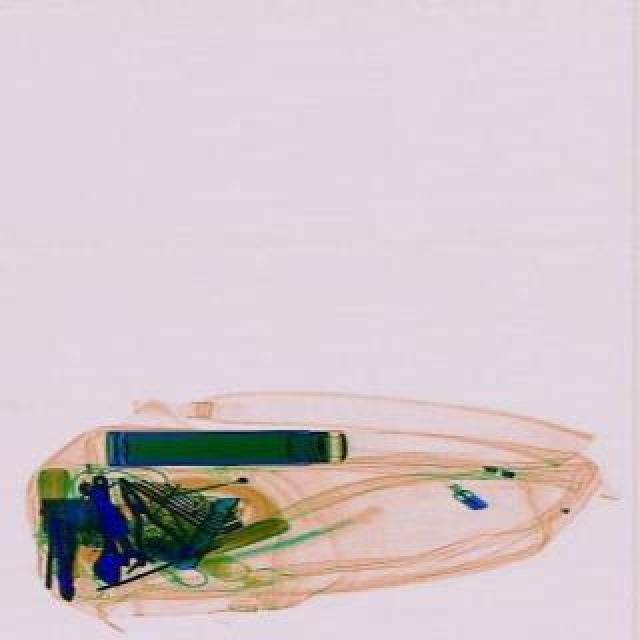scissors: (80, 482, 148, 570), (80, 472, 132, 584)
wrench: (98, 468, 190, 574), (50, 516, 74, 602)
